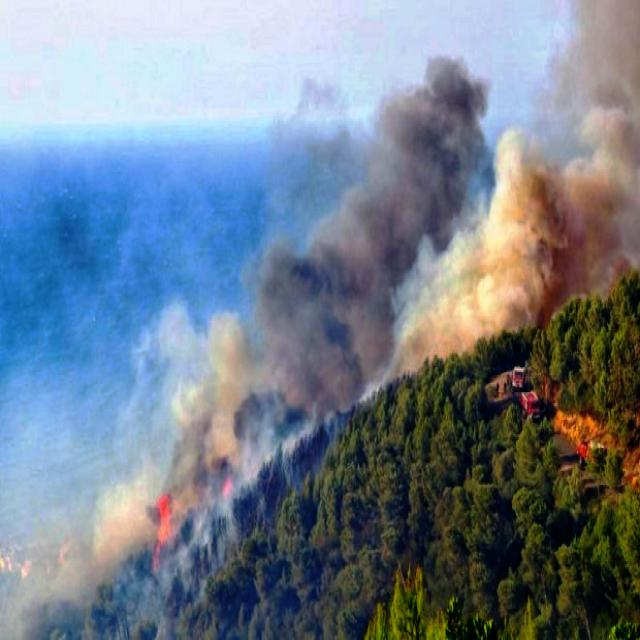asap: (266, 1, 640, 393), (93, 329, 242, 632)
